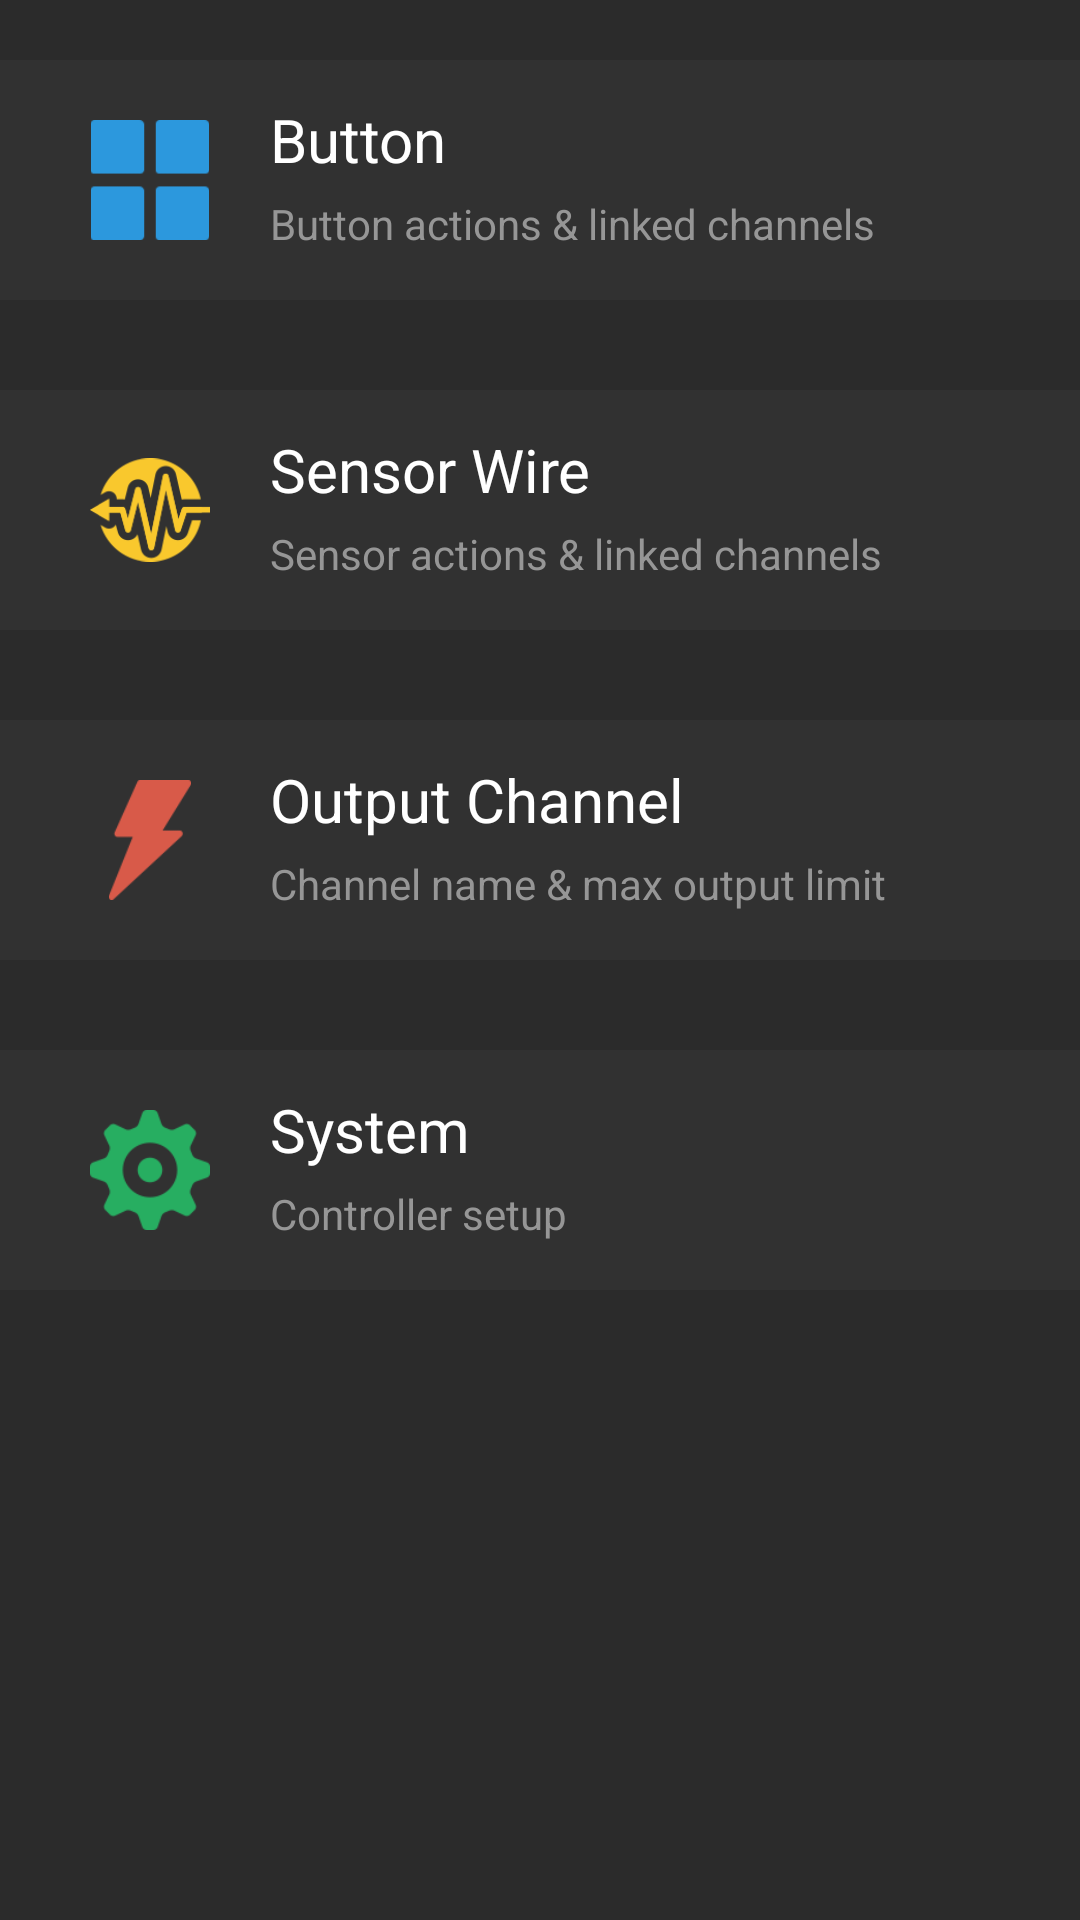

Icon bounding boxes for this 1080w x 1920h phone screenshot, format {"x1": x1, "y1": y1, "x2": x2, "y2": y2}:
sensor edit: {"x1": 90, "y1": 458, "x2": 210, "y2": 562}
